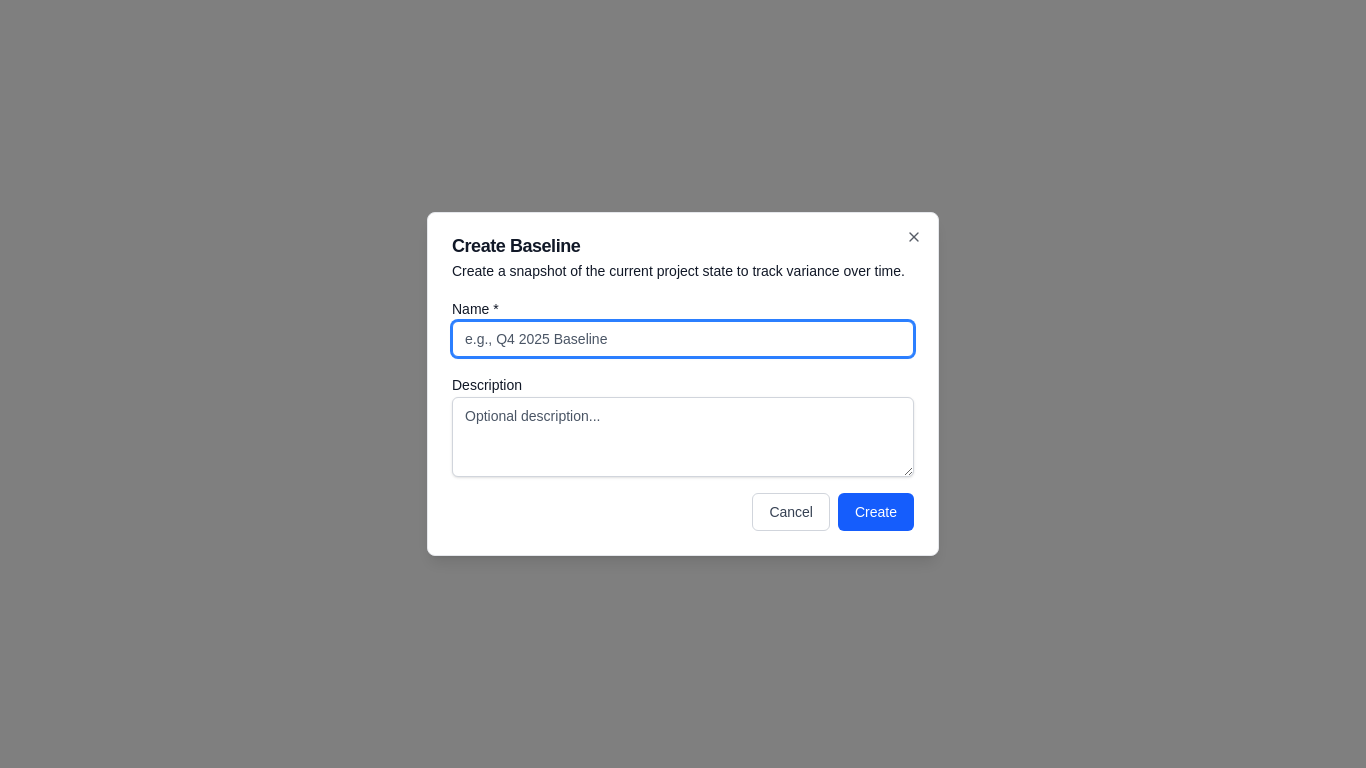
Scenario: CreateBaselineDialog › Form Submission › shows loading state during submission
The width and height of the screenshot is (1366, 768).
Type "Test Baseline" into the field labelled "Name *" at (683, 339), box [452,321,914,357]
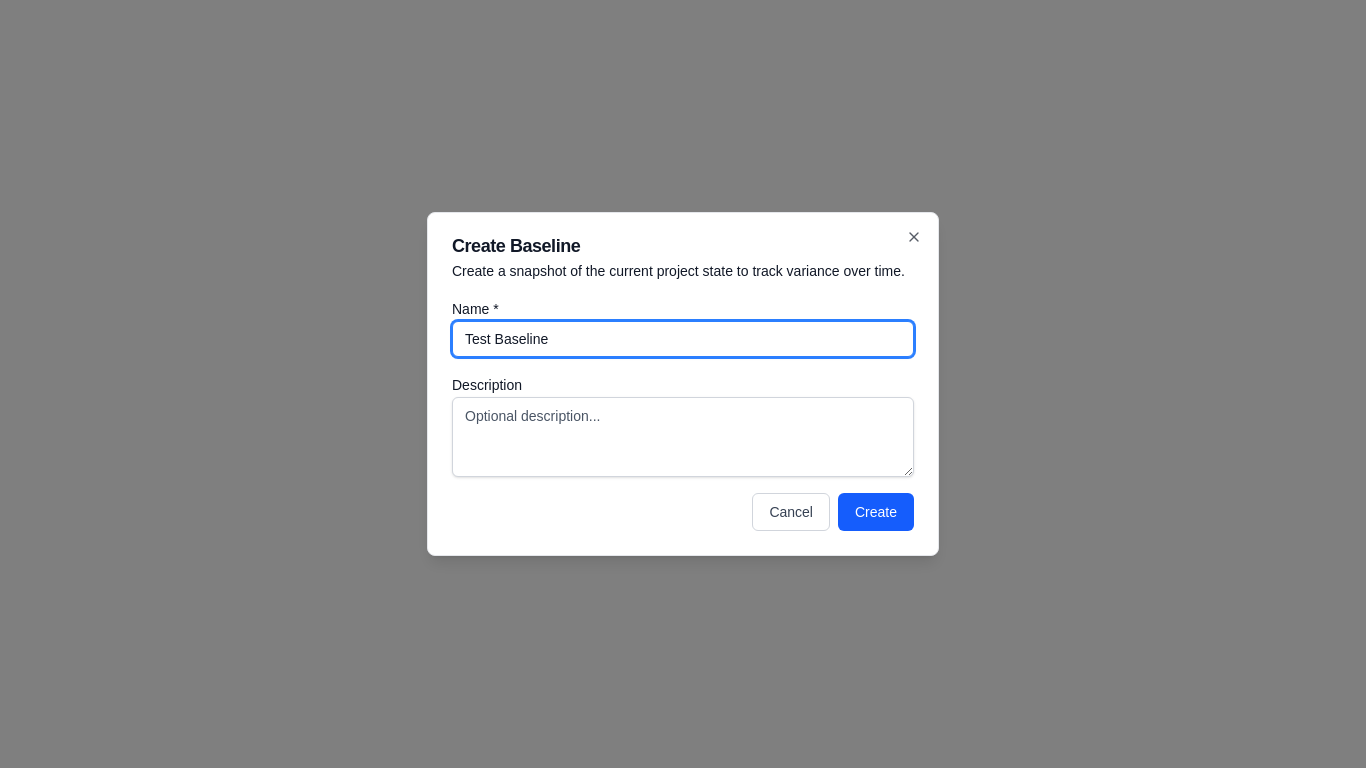
Click the button "Create" at (876, 512), box [838,493,914,531]
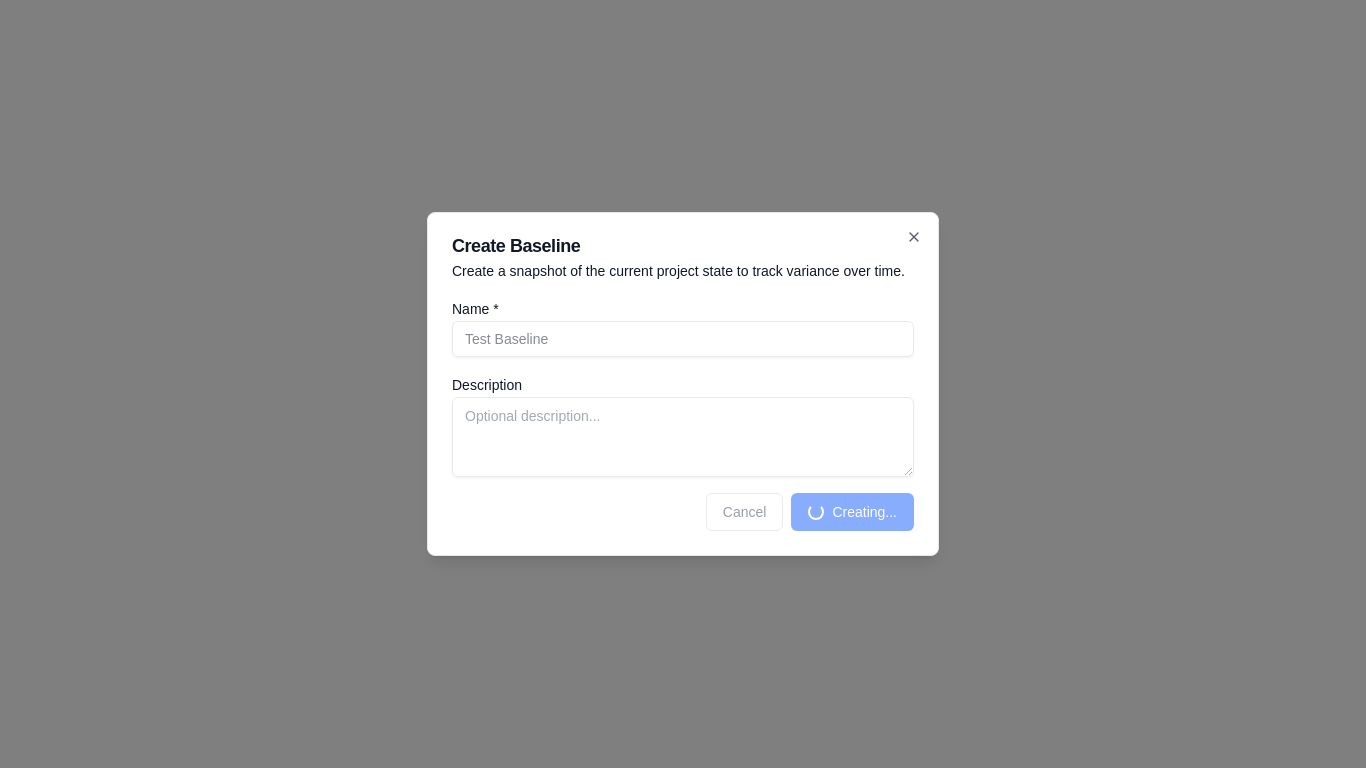
Expected: the button "Creating..." is shown, [791,493,914,531]
